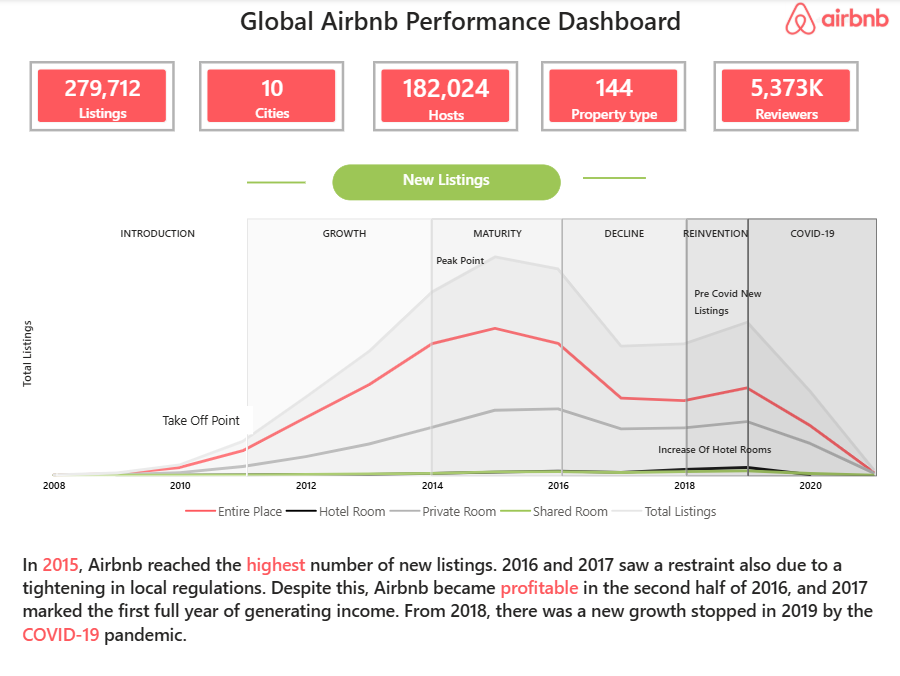

Layout of this report page (visuals, bound fields, positions):
{"tool":"powerbi","page":{"name":"Overview","canvas":[960,720],"ordinal":0},"visuals":[{"type":"textbox","box":[225.9,0,536,66.8],"z":0},{"type":"image","box":[838.3,0,109.8,44.5],"z":1000},{"type":"cardVisual","fields":{"Data":["CountNonNull(Listings.listing_id)"]},"box":[36.6,66.8,154.3,74.8],"z":2000},{"type":"cardVisual","fields":{"Data":["Count(Listings.city)"]},"box":[216.3,66.8,154.3,74.8],"z":3000},{"type":"cardVisual","fields":{"Data":["CountNonNull(Reviews.reviewer_id)"]},"box":[761.9,66.8,154.3,74.8],"z":4000},{"type":"cardVisual","fields":{"Data":["Count(Listings.property_type)"]},"box":[579,66.8,154.3,74.8],"z":5000},{"type":"cardVisual","fields":{"Data":["Count(Listings.host_id)"]},"box":[400.8,66.8,154.3,74.8],"z":6000},{"type":"lineChart","fields":{"Category":["Listings.host_since.Variation.Date Hierarchy.Year"],"Y":["Listings.Entire Place","Listings.Hotel Room","Listings.Private Room","Listings.Shared Room","CountNonNull(Listings.listing_id)"]},"box":[23.9,233.8,924.1,329.3],"z":7000},{"type":"textbox","box":[357.9,176.6,241.8,38.2],"z":8000},{"type":"shape","box":[267.2,171.8,62,47.7],"z":9000},{"type":"shape","box":[623.5,167,66.8,47.7],"z":10000},{"type":"shape","box":[65.2,233.8,202,273.6],"z":11000},{"type":"shape","box":[267.2,233.8,195.6,273.6],"z":12000},{"type":"shape","box":[462.9,233.8,138.4,273.6],"z":13000},{"type":"shape","box":[601.3,233.8,132,273.6],"z":14000},{"type":"shape","box":[733.3,233.8,65.2,273.6],"z":15000},{"type":"shape","box":[798.5,233.8,136.8,273.6],"z":16000},{"type":"textbox","box":[124.1,233.8,97,33.4],"z":17000},{"type":"textbox","box":[335.6,233.8,70,28.6],"z":18000},{"type":"textbox","box":[494.7,233.8,76.3,28.6],"z":19000},{"type":"textbox","box":[641,233.8,52.5,28.6],"z":20000},{"type":"textbox","box":[719,233.8,90.7,33.4],"z":21000},{"type":"textbox","box":[835.1,233.8,63.6,33.4],"z":22000},{"type":"textbox","box":[23.9,582.2,924.1,112.9],"z":23000},{"type":"textbox","box":[167,432.6,106.6,30.2],"z":24000},{"type":"textbox","box":[461.3,262.5,66.8,30.2],"z":25000},{"type":"textbox","box":[736.5,297.4,84.3,49.3],"z":26000},{"type":"textbox","box":[698.3,462.9,141.6,30.2],"z":27000}]}

Visuals, with their boxes in screenshot pixels (x1, y1, x2, y2), scaled from the page's 960x720 canvas onto the 900x676 screenshot:
textbox: <region>212, 0, 714, 63</region>
image: <region>786, 0, 889, 42</region>
cardVisual - CountNonNull(Listings.listing_id): <region>34, 63, 179, 133</region>
cardVisual - Count(Listings.city): <region>203, 63, 347, 133</region>
cardVisual - CountNonNull(Reviews.reviewer_id): <region>714, 63, 859, 133</region>
cardVisual - Count(Listings.property_type): <region>543, 63, 687, 133</region>
cardVisual - Count(Listings.host_id): <region>376, 63, 520, 133</region>
lineChart - Listings.host_since.Variation.Date Hierarchy.Year x Listings.Entire Place: <region>22, 220, 889, 529</region>
textbox: <region>336, 166, 562, 202</region>
shape: <region>250, 161, 309, 206</region>
shape: <region>585, 157, 647, 202</region>
shape: <region>61, 220, 250, 476</region>
shape: <region>250, 220, 434, 476</region>
shape: <region>434, 220, 564, 476</region>
shape: <region>564, 220, 687, 476</region>
shape: <region>687, 220, 749, 476</region>
shape: <region>749, 220, 877, 476</region>
textbox: <region>116, 220, 207, 251</region>
textbox: <region>315, 220, 380, 246</region>
textbox: <region>464, 220, 535, 246</region>
textbox: <region>601, 220, 650, 246</region>
textbox: <region>674, 220, 759, 251</region>
textbox: <region>783, 220, 843, 251</region>
textbox: <region>22, 547, 889, 653</region>
textbox: <region>157, 406, 256, 435</region>
textbox: <region>432, 246, 495, 275</region>
textbox: <region>690, 279, 770, 326</region>
textbox: <region>655, 435, 787, 463</region>
